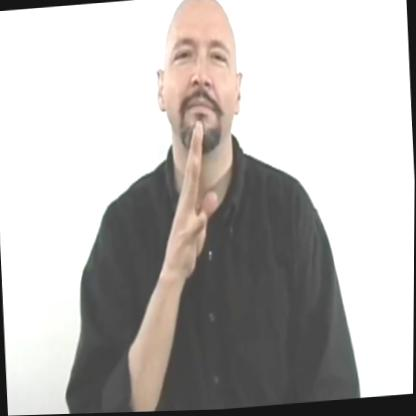Talk: (139, 0, 292, 269)
